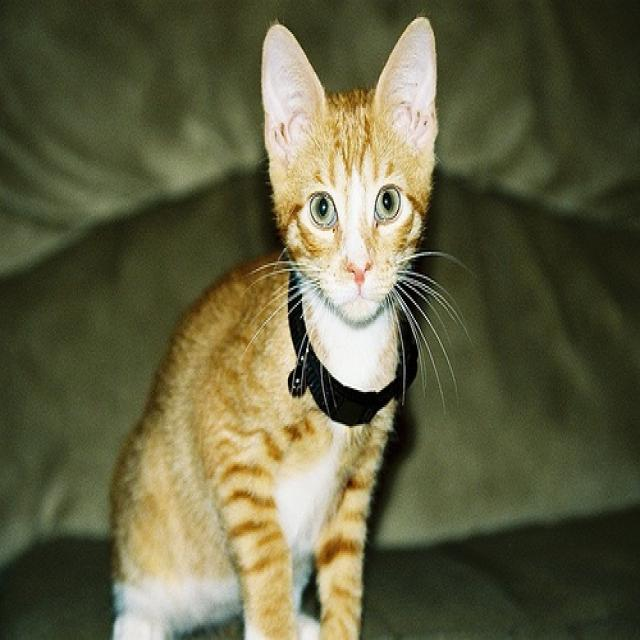cat: (109, 15, 479, 638)
